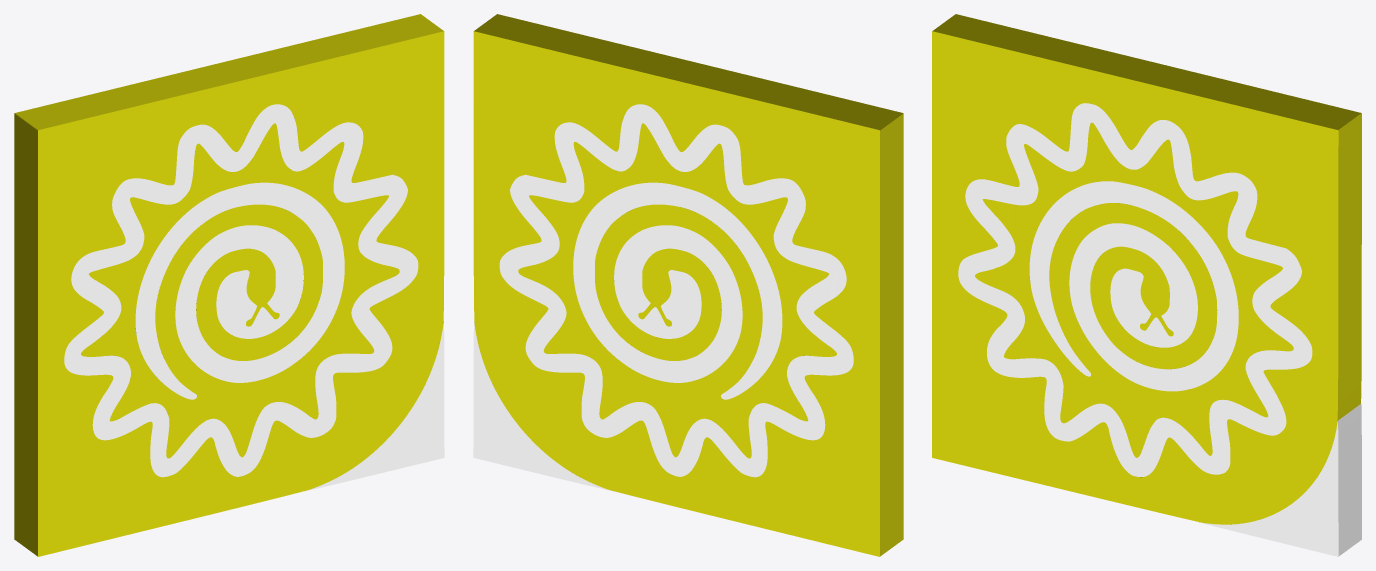
File: Copilco3D.fbx
The picture shows the model from 3 angles, left to right: view 1: azimuth 30°, elevation 25°; view 2: azimuth 150°, elevation 25°; view 3: azimuth 330°, elevation 25°; orthographic projection.
Visible parts, largest first — view 1: imagetostl_mesh0, imagetostl_mesh1, imagetostl_mesh2, imagetostl_mesh3, imagetostl_mesh4; view 2: imagetostl_mesh0, imagetostl_mesh1, imagetostl_mesh2, imagetostl_mesh3, imagetostl_mesh4; view 3: imagetostl_mesh0, imagetostl_mesh1, imagetostl_mesh2, imagetostl_mesh3, imagetostl_mesh4.
Part boxes in pixels (x1=…): imagetostl_mesh0: x1=14, y1=14, x2=444, y2=556; imagetostl_mesh1: x1=81, y1=123, x2=399, y2=458; imagetostl_mesh2: x1=64, y1=104, x2=418, y2=477; imagetostl_mesh3: x1=135, y1=182, x2=344, y2=399; imagetostl_mesh4: x1=304, y1=321, x2=444, y2=491; imagetostl_mesh0: x1=473, y1=14, x2=903, y2=556; imagetostl_mesh1: x1=518, y1=123, x2=836, y2=458; imagetostl_mesh2: x1=499, y1=104, x2=853, y2=477; imagetostl_mesh3: x1=573, y1=182, x2=782, y2=399; imagetostl_mesh4: x1=473, y1=321, x2=613, y2=491; imagetostl_mesh0: x1=932, y1=14, x2=1361, y2=524; imagetostl_mesh1: x1=975, y1=122, x2=1293, y2=457; imagetostl_mesh2: x1=958, y1=103, x2=1312, y2=476; imagetostl_mesh3: x1=1029, y1=181, x2=1238, y2=391; imagetostl_mesh4: x1=1198, y1=404, x2=1361, y2=556.
Size of the model in its own units: 10000 by 10032 by 1000.
